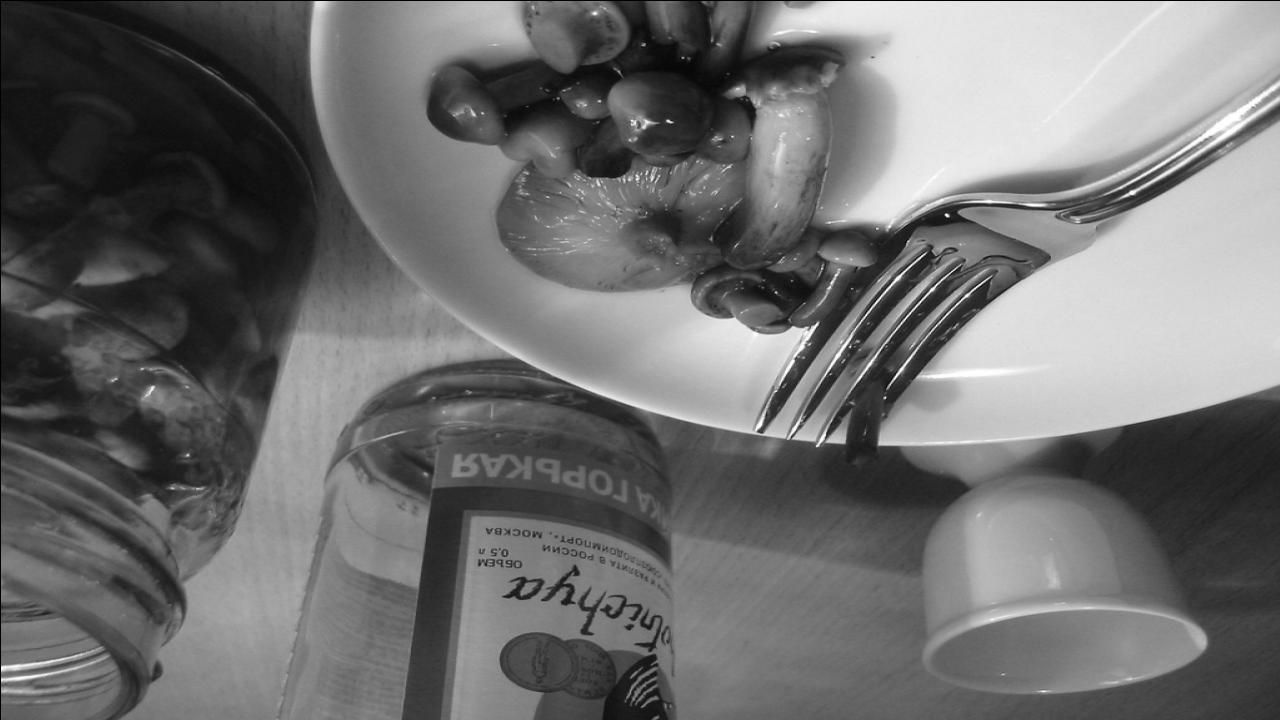fork: (748, 68, 1280, 451)
